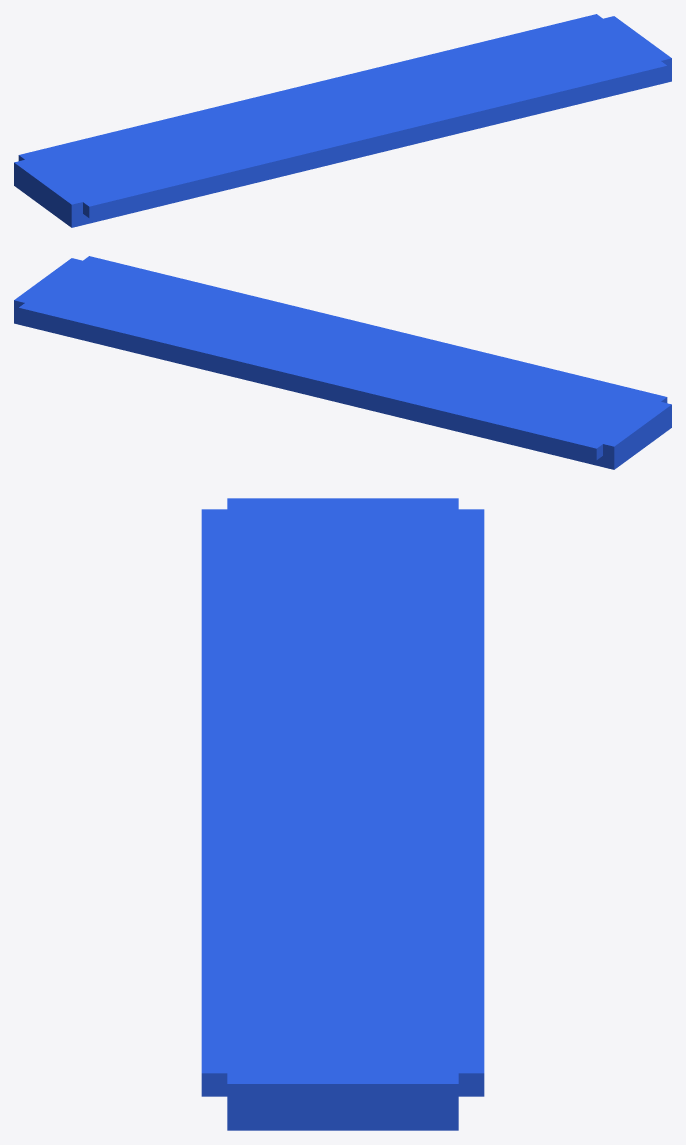
The model's file is wPlat.glb.
The picture shows the model from 3 angles, top to bottom: view 1: azimuth 30°, elevation 25°; view 2: azimuth 150°, elevation 25°; view 3: azimuth 270°, elevation 25°; orthographic projection. The views are drawn at different scales.
Parts seen in each view (by area): view 1: wPlat; view 2: wPlat; view 3: wPlat.
Boxes of the visible parts, x1=… form: wPlat: x1=14, y1=14, x2=671, y2=227; wPlat: x1=14, y1=256, x2=671, y2=469; wPlat: x1=201, y1=498, x2=484, y2=1130.
Size of the model in its own units: 54 by 2 by 11.
1 material, 1 textured.
